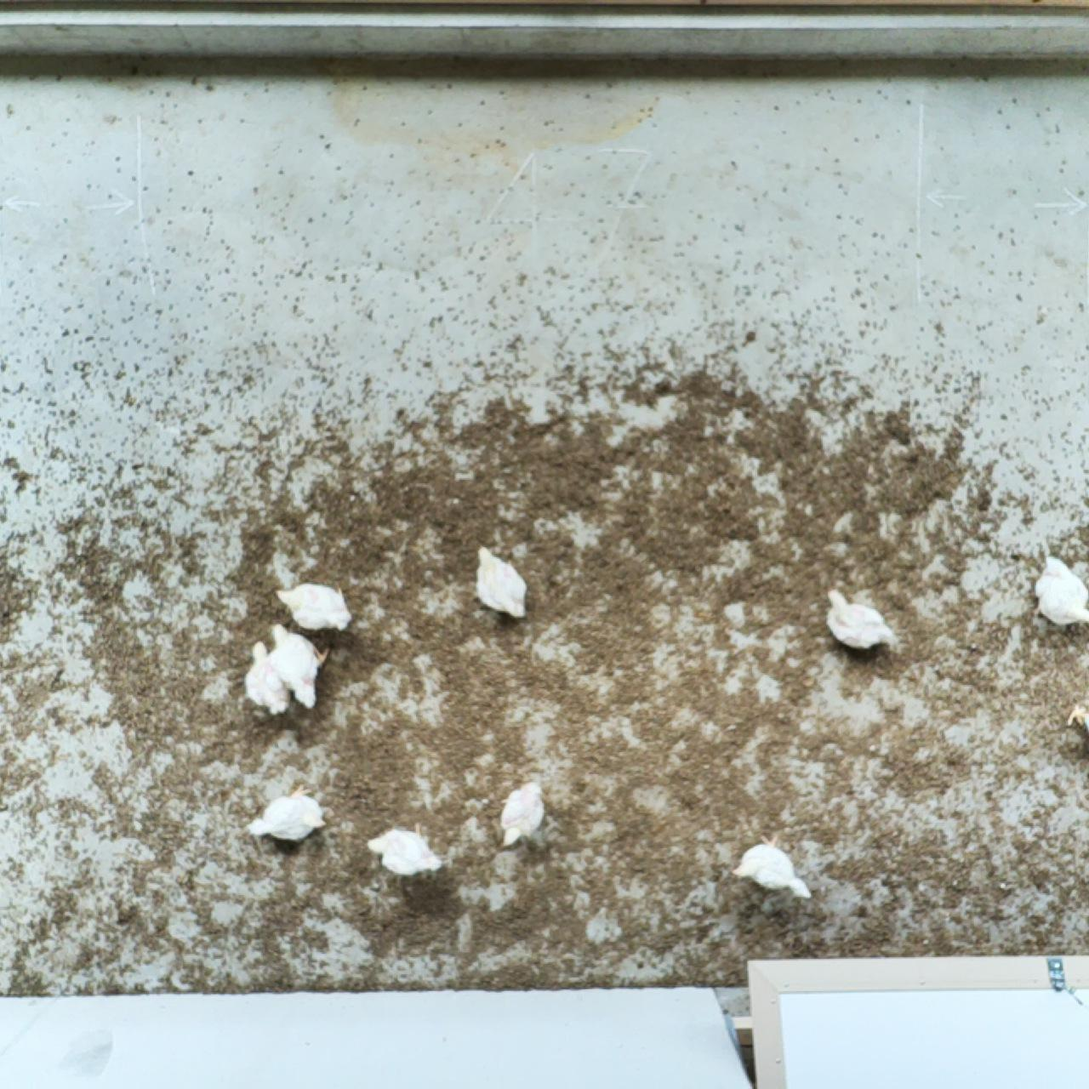chicken: (269, 626, 330, 710), (243, 783, 328, 842), (733, 841, 812, 904), (825, 589, 900, 655), (364, 824, 446, 880), (1035, 553, 1089, 630), (476, 548, 529, 624), (274, 584, 354, 631), (245, 640, 291, 716), (499, 776, 546, 847), (1067, 699, 1089, 742)
